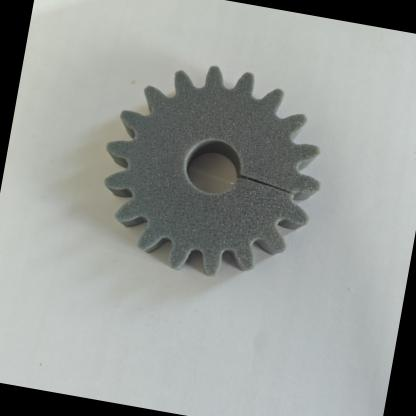defect: (222, 143, 332, 227)
gear: (58, 34, 355, 316)
